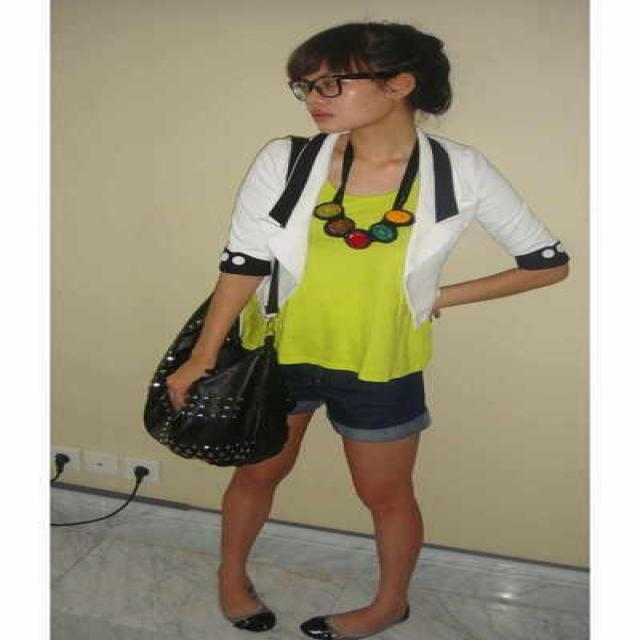bag: (144, 292, 286, 466)
jacket: (219, 126, 568, 308)
shirt: (238, 192, 432, 381)
shoe: (234, 607, 339, 639)
shorts: (259, 363, 429, 452)
